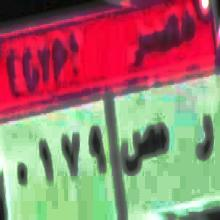0: (16, 158, 28, 195)
1: (38, 135, 54, 193)
7: (61, 130, 82, 192)
9: (88, 121, 107, 181)
haa: (159, 123, 170, 153)
raa: (198, 109, 212, 165)
saad: (118, 124, 156, 178)
